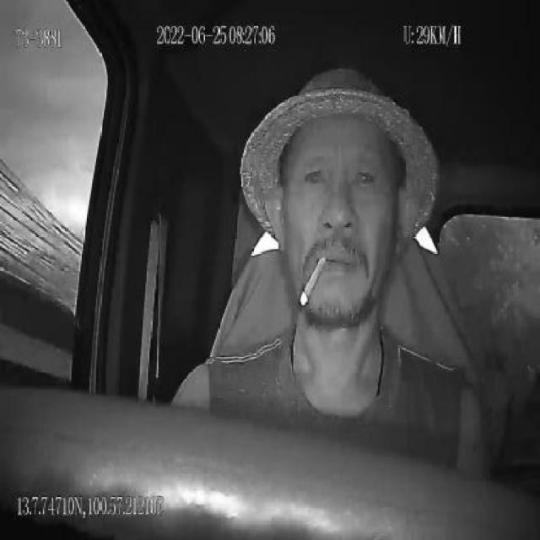smoking: (300, 256, 328, 303)
